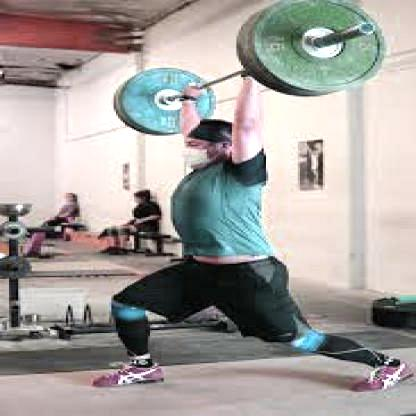Barbell: (359, 18, 381, 37)
